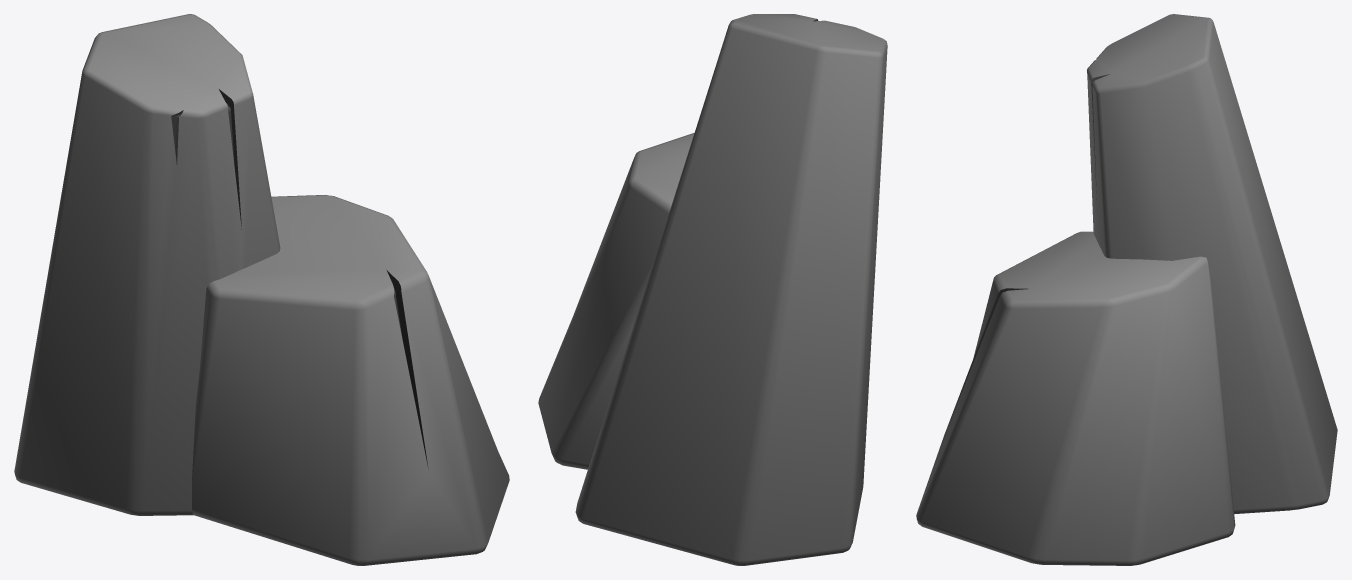
The model's file is Rock_Cluster_03.fbx.
The picture shows the model from 3 angles, left to right: view 1: azimuth 30°, elevation 25°; view 2: azimuth 150°, elevation 25°; view 3: azimuth 270°, elevation 25°; orthographic projection. The views are drawn at different scales.
Parts seen in each view (by area): view 1: Rock_Cluster_03; view 2: Rock_Cluster_03; view 3: Rock_Cluster_03.
Boxes of the visible parts, x1,y1,x2,y2 form: Rock_Cluster_03: (14, 14, 509, 565); Rock_Cluster_03: (538, 14, 887, 565); Rock_Cluster_03: (916, 14, 1337, 565).
Size of the model in its own units: 301 by 354 by 328.
